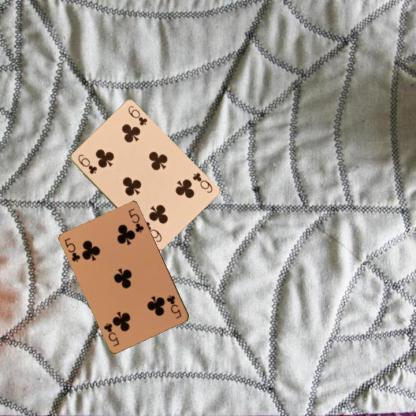5c: (62, 235, 82, 264), (164, 292, 183, 320)
6c: (189, 170, 214, 194), (75, 151, 98, 175)
